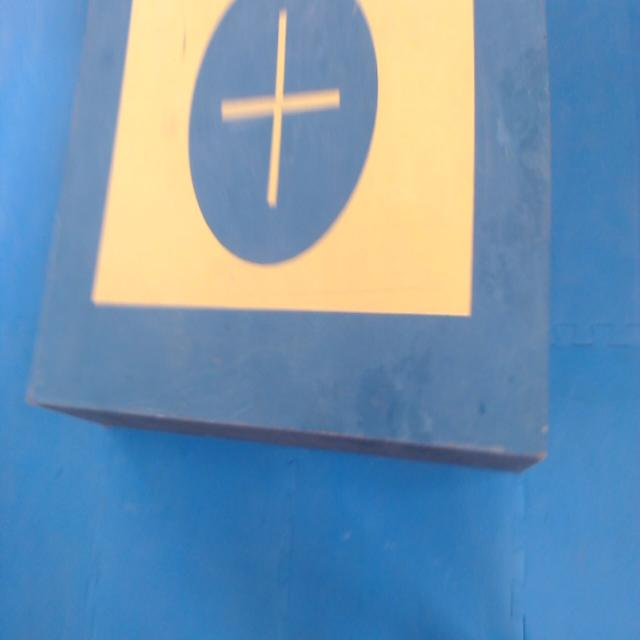base_inicio: (91, 0, 475, 315)
